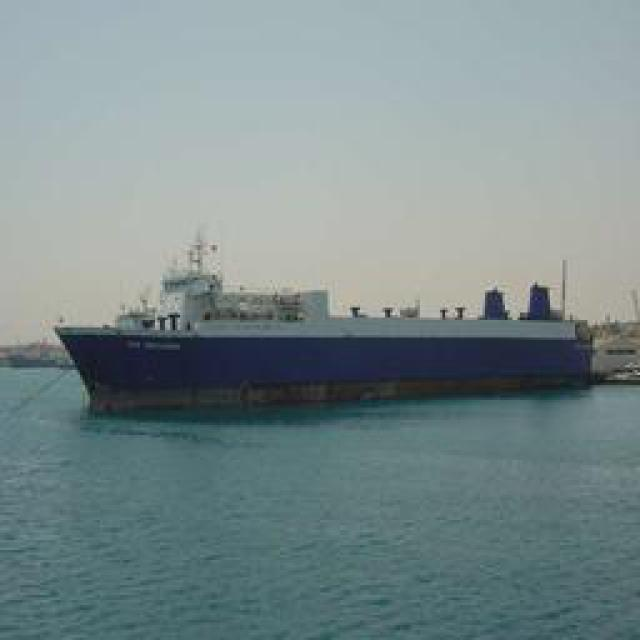Ship: (47, 251, 615, 409)
